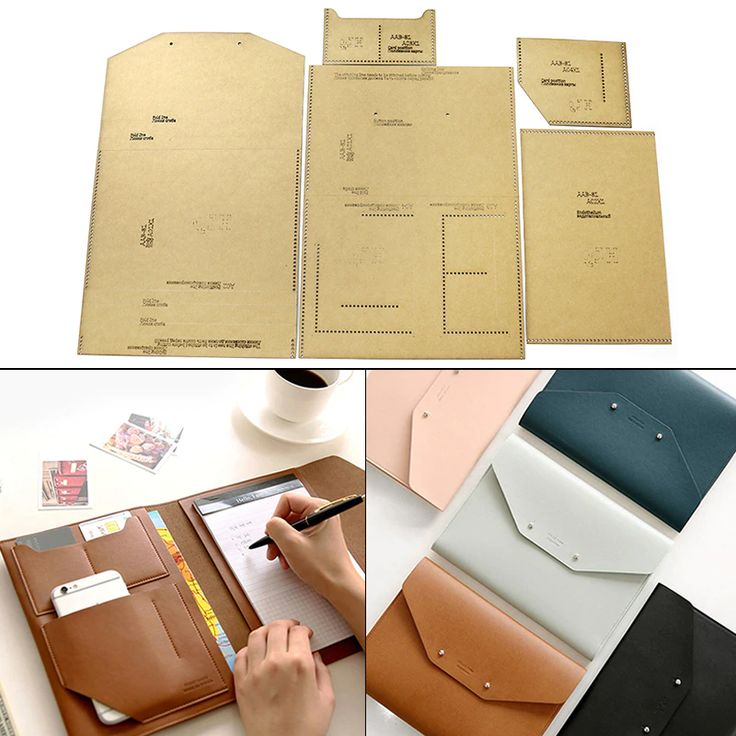cuero: (4, 371, 736, 736)
